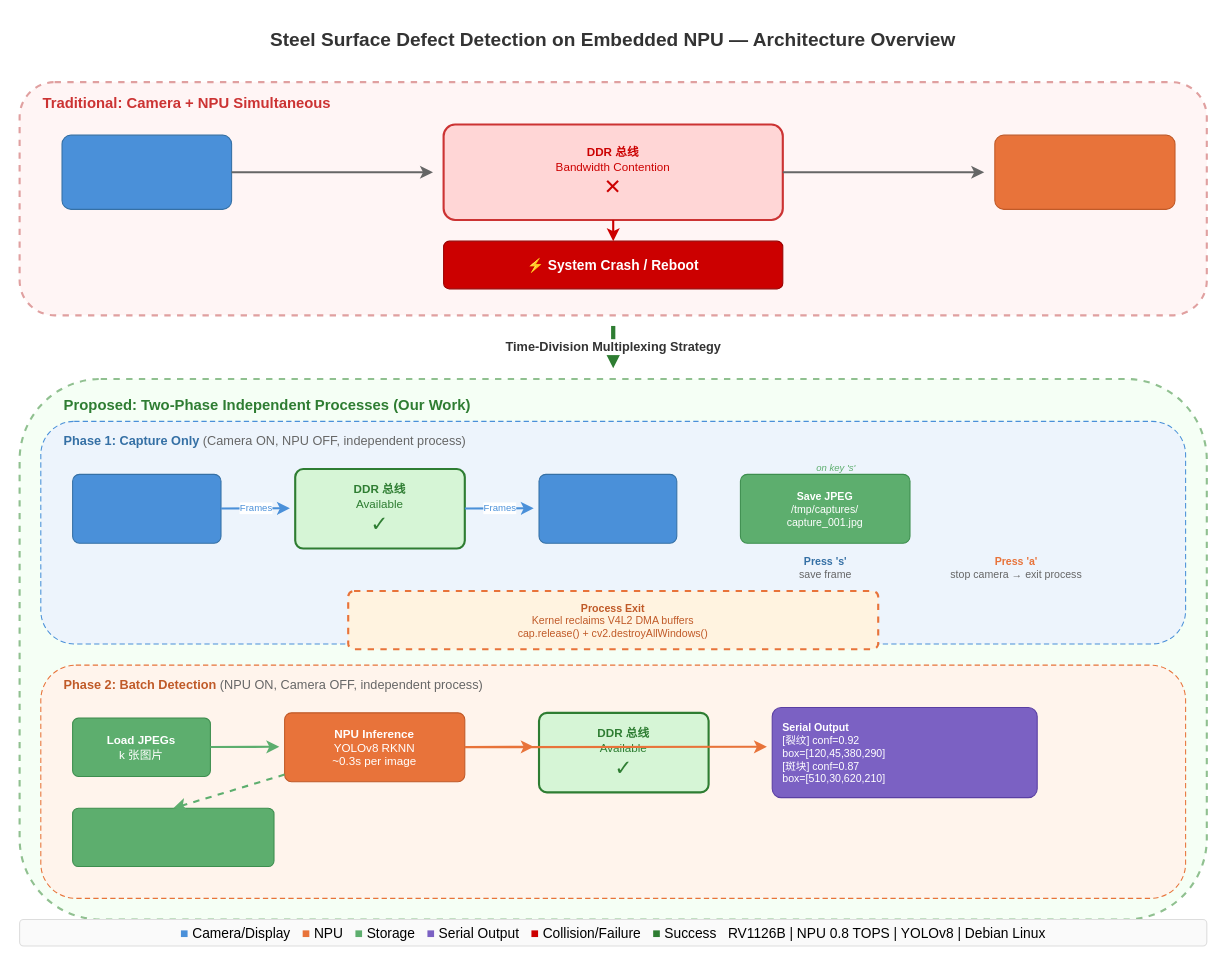
The diagram is 1225 pixels wide and 965 high, and some of its shapes have lost their labels. Each missing label, with the centre of its shape:
"Camera ISP /dev/video23 640×480@30fps" goes at pixel 146 171.
"Camera ISP Live Feed 640×480" goes at pixel 146 508.
"Display cv2.imshow Real-time" goes at pixel 607 508.
"NPU Inference RKNNLite YOLOv8 (0.8 TOPS)" goes at pixel 1084 171.
"Result JPEG capture_001_result.jpg 带标注框" goes at pixel 173 837.
